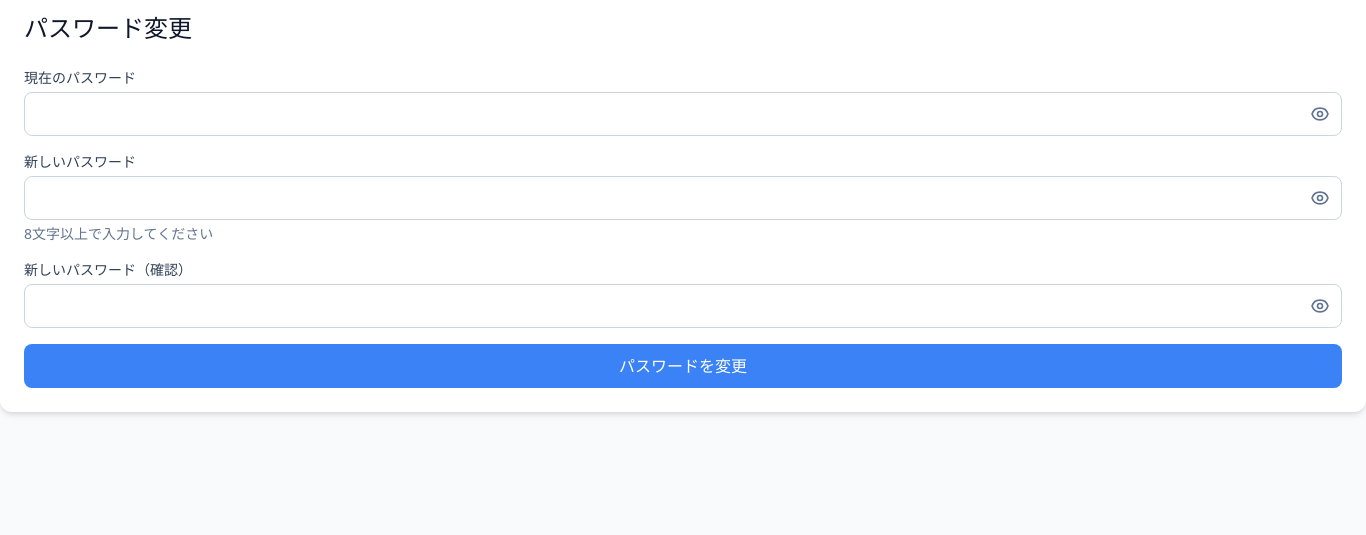
PasswordChangeForm › Validation › should show error when new password is same as current password
Type "samepassword123" into the password field labelled "現在のパスワード". click: (683, 114)
box: [24,92,1342,136]
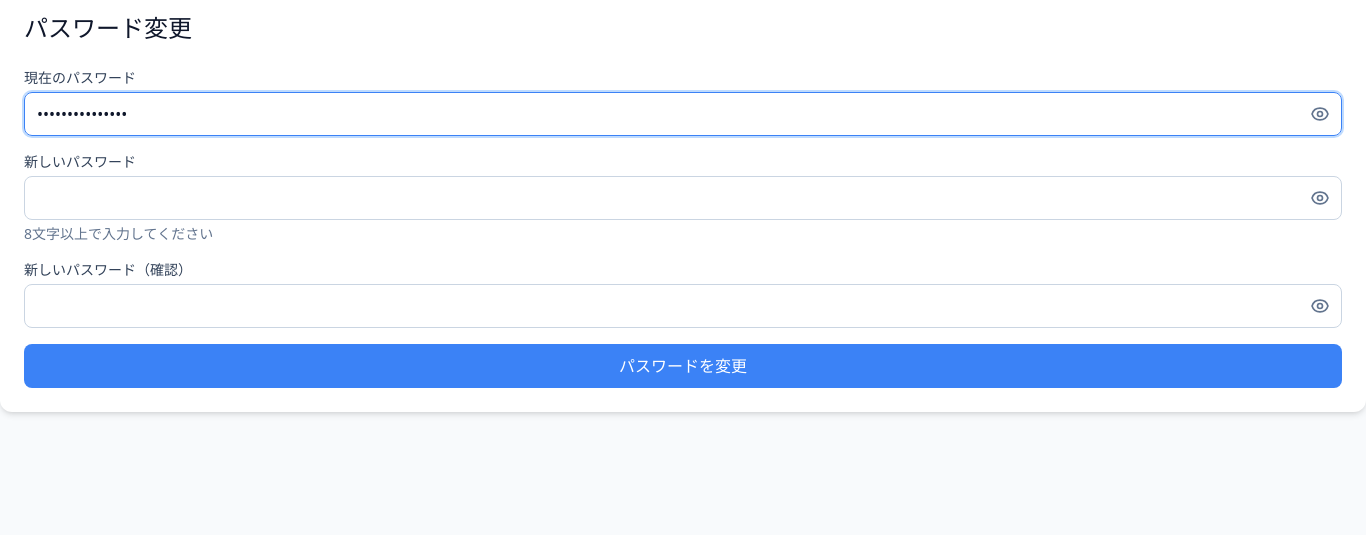
Type "samepassword123" into the password field labelled "新しいパスワード". click: (683, 198)
box: [24,176,1342,220]
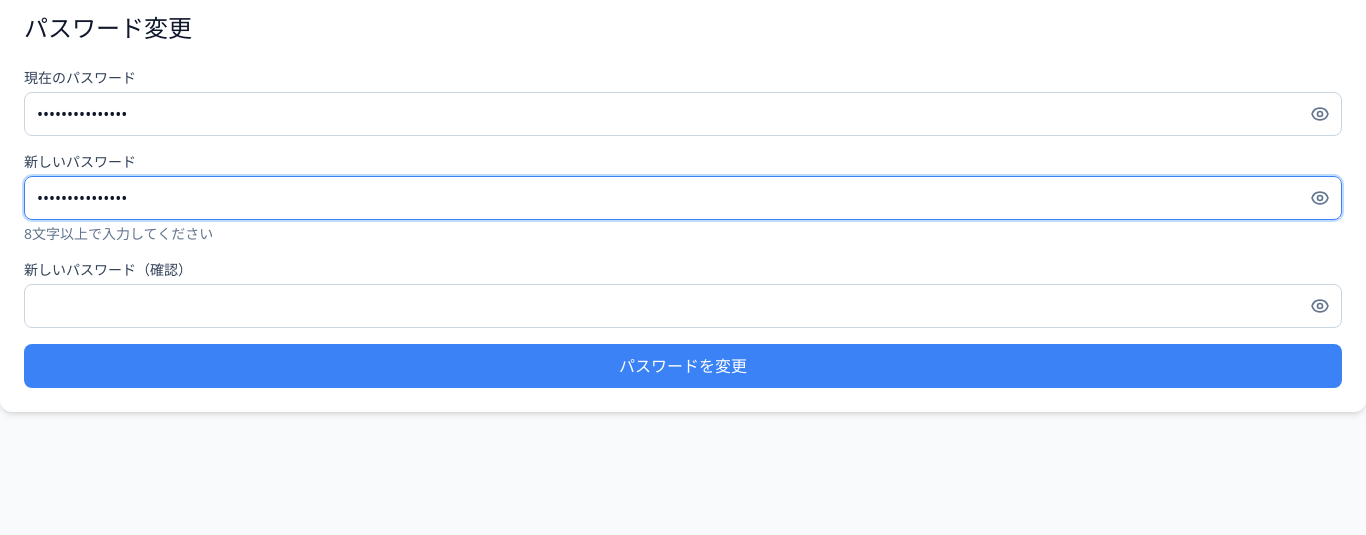
Type "samepassword123" into the password field labelled "新しいパスワード（確認）". click: (683, 306)
box: [24,284,1342,328]
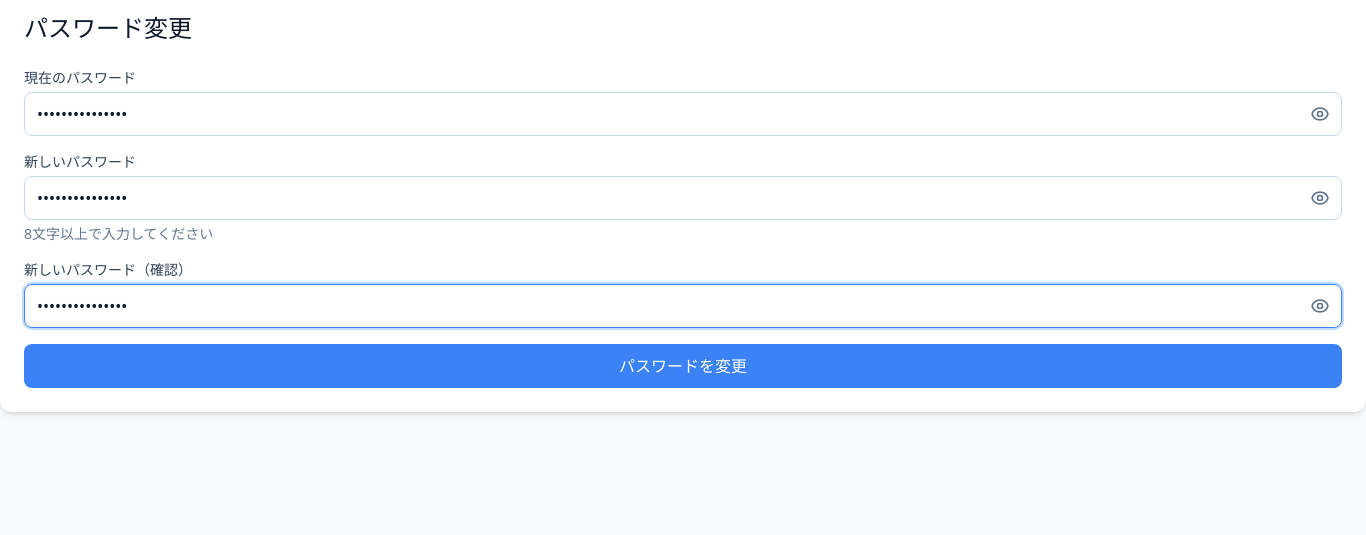
Click the button "パスワードを変更". click: click(683, 366)
box: [24,344,1342,388]
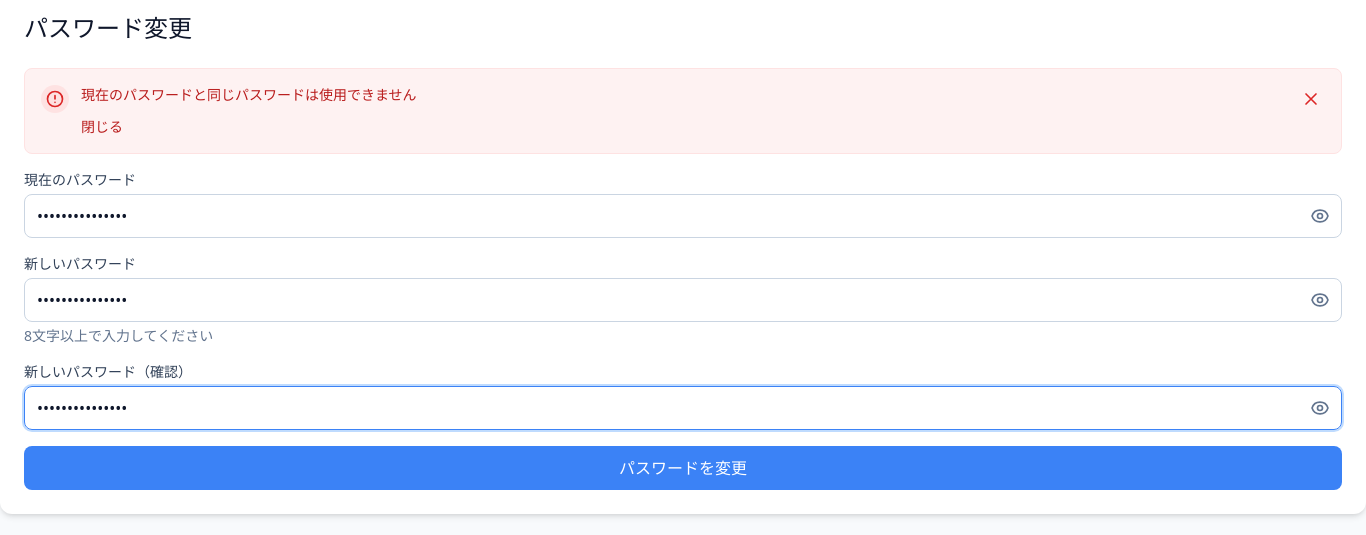
Check: the message shows "現在のパスワードと同じパスワードは使用できません", box [81,85,417,104]
